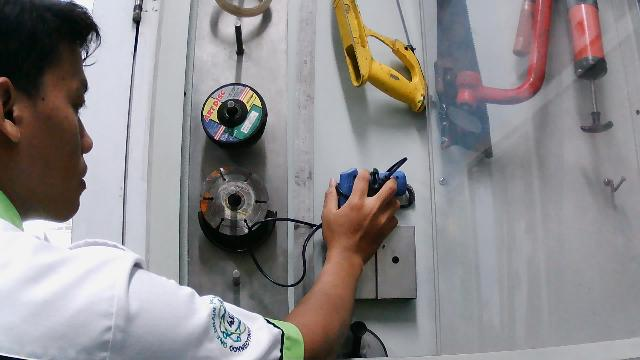solder_electrical: (297, 149, 418, 266)
